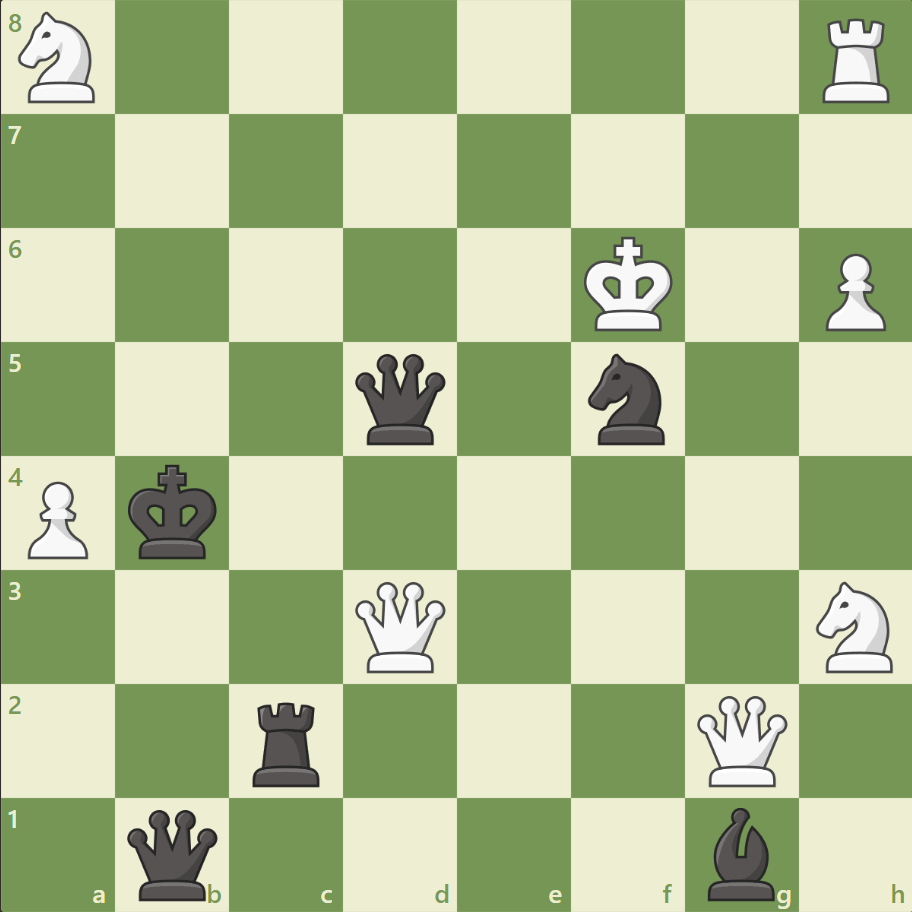K: (579, 231, 679, 339)
N: (11, 7, 108, 110), (806, 575, 903, 677)
P: (20, 473, 95, 564), (815, 246, 889, 337)
Q: (351, 576, 450, 676), (691, 690, 790, 789)
R: (814, 12, 897, 109)
b: (698, 801, 782, 904)
k: (124, 458, 224, 566)
n: (579, 348, 676, 450)
q: (351, 349, 450, 449), (124, 804, 223, 903)
r: (246, 693, 329, 790)
